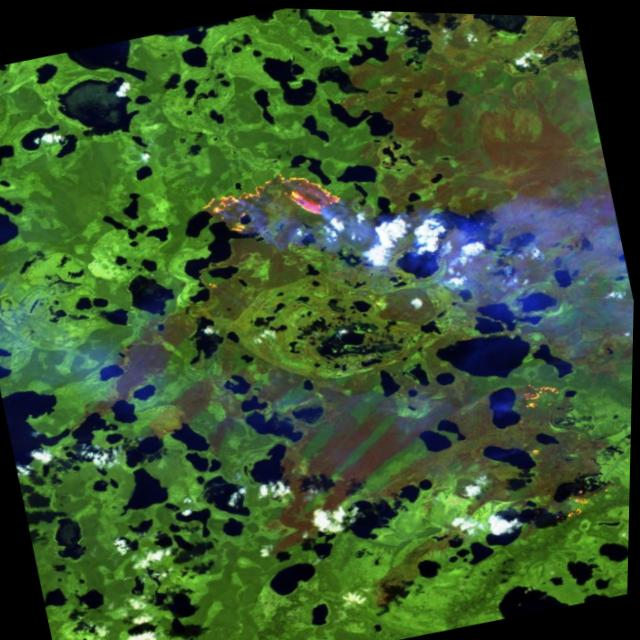fire: (182, 150, 350, 253), (508, 369, 569, 415)
